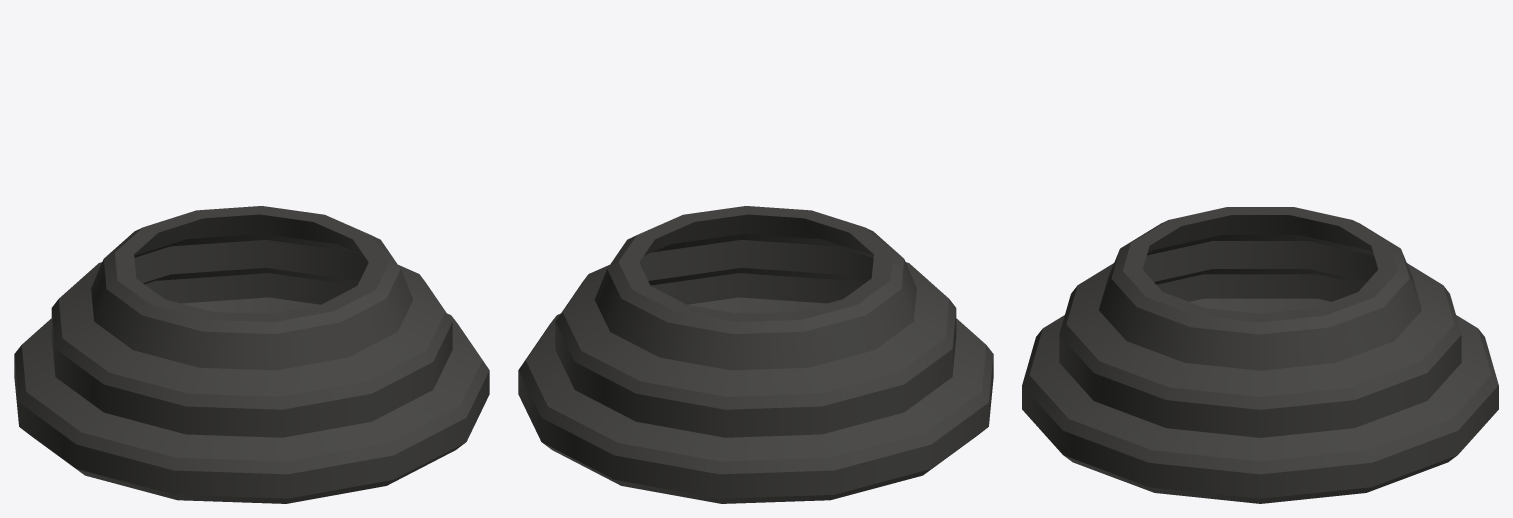
File: Bola_Cristal.fbx
The picture shows the model from 3 angles, left to right: view 1: azimuth 30°, elevation 25°; view 2: azimuth 150°, elevation 25°; view 3: azimuth 270°, elevation 25°; orthographic projection.
Parts seen in each view (by area): view 1: Bola_Cristal; view 2: Bola_Cristal; view 3: Bola_Cristal.
Part boxes in pixels (x1=…): Bola_Cristal: x1=14, y1=206, x2=489, y2=503; Bola_Cristal: x1=518, y1=206, x2=993, y2=503; Bola_Cristal: x1=1022, y1=207, x2=1498, y2=503.
Bounding box in the file's own units: 85.09 × 75.66 × 85.72.
1 material, 1 textured.
